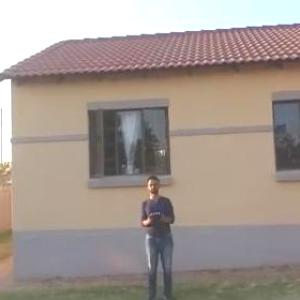follow: (136, 171, 183, 299)
